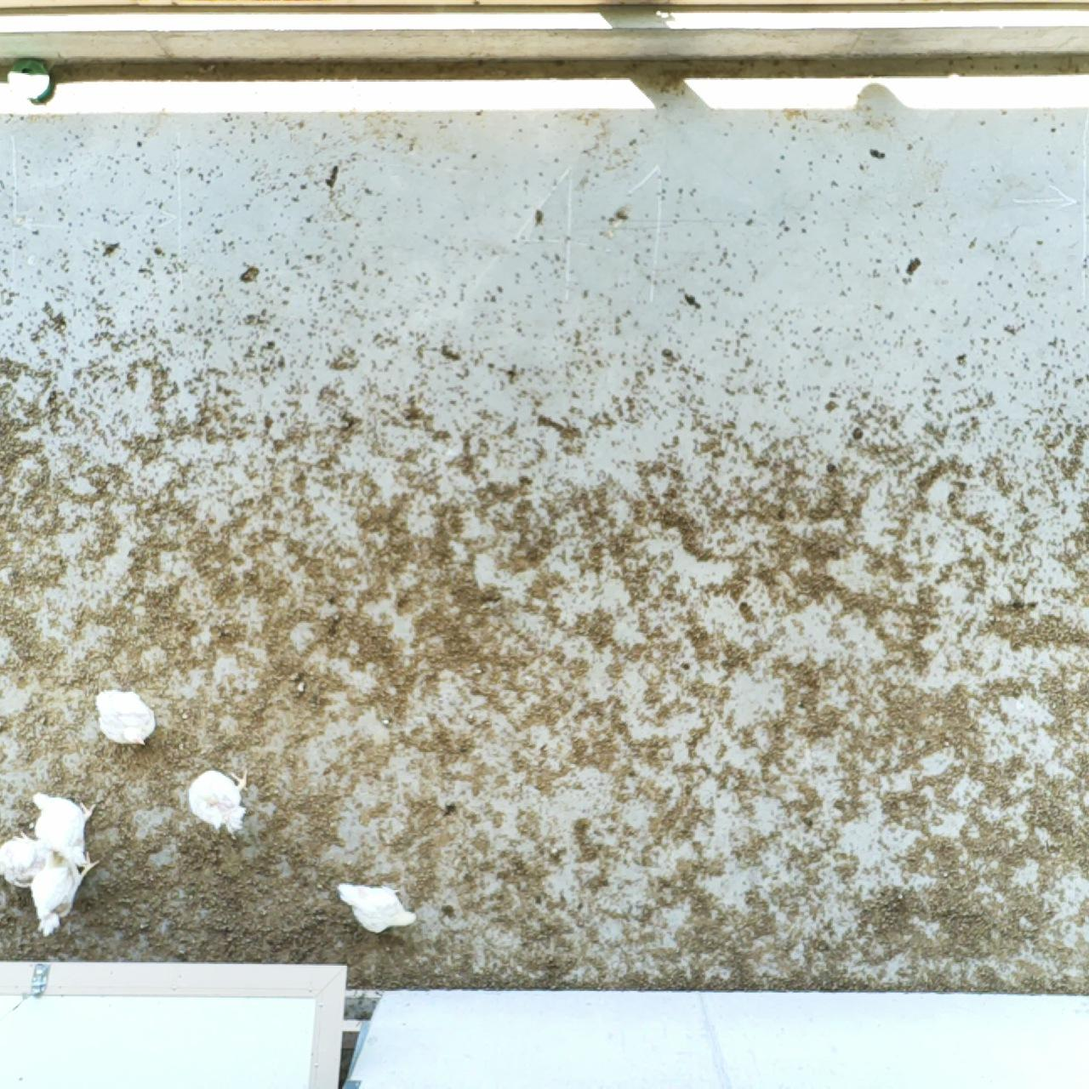chicken: (29, 845, 104, 939), (30, 784, 97, 870), (185, 762, 255, 841), (329, 877, 420, 936), (89, 686, 162, 751), (0, 830, 43, 893)
